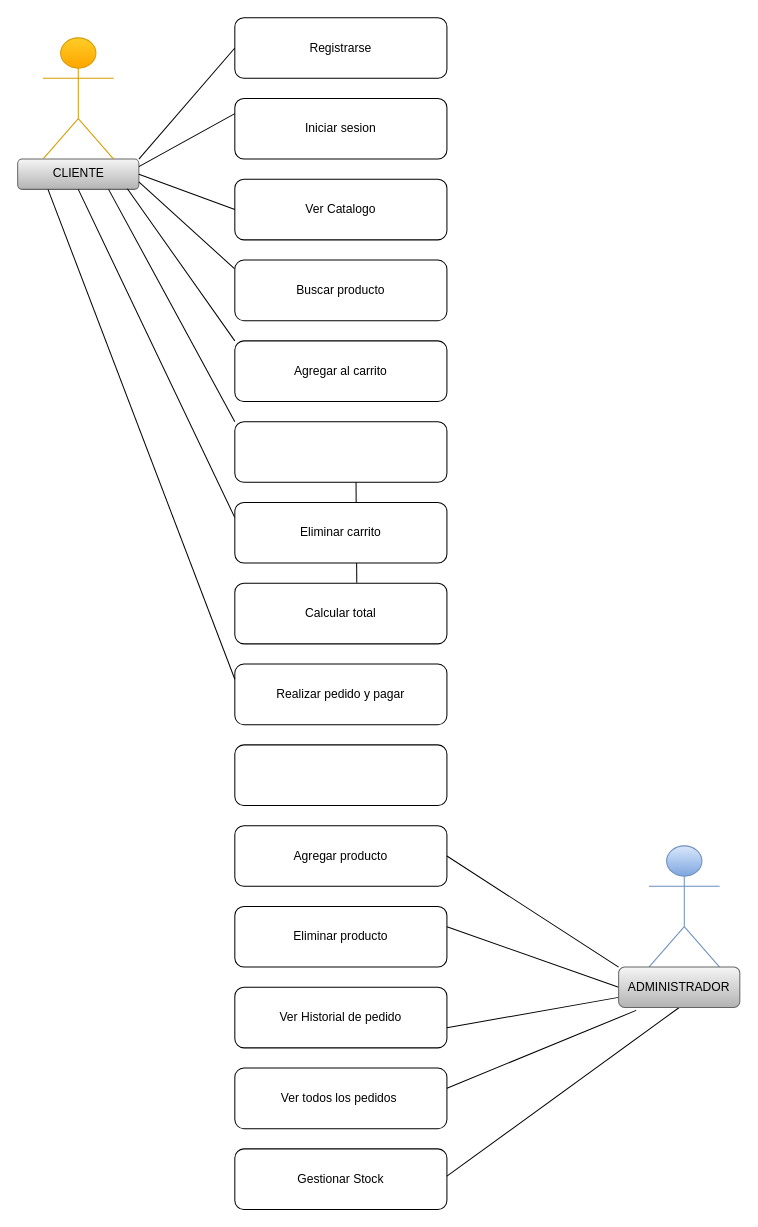
Image size: 758x1227. Some labels were removed from this diagram. Here are the shapes that lost their labels. From the top down, the box of each, then its label:
(234, 421, 447, 482): Ver carrito
(234, 744, 447, 805): Seleccionar metodo de pago
